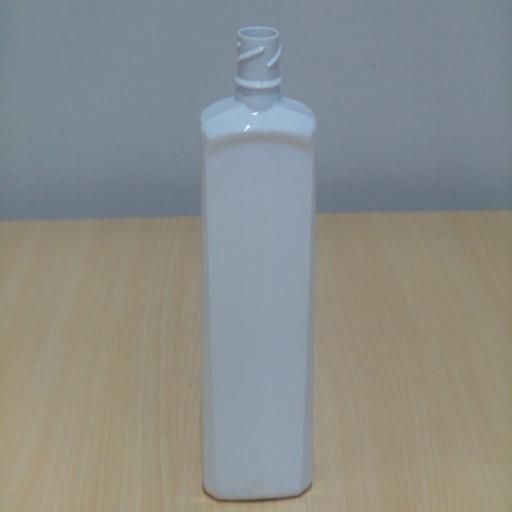Good: (188, 17, 328, 507)
